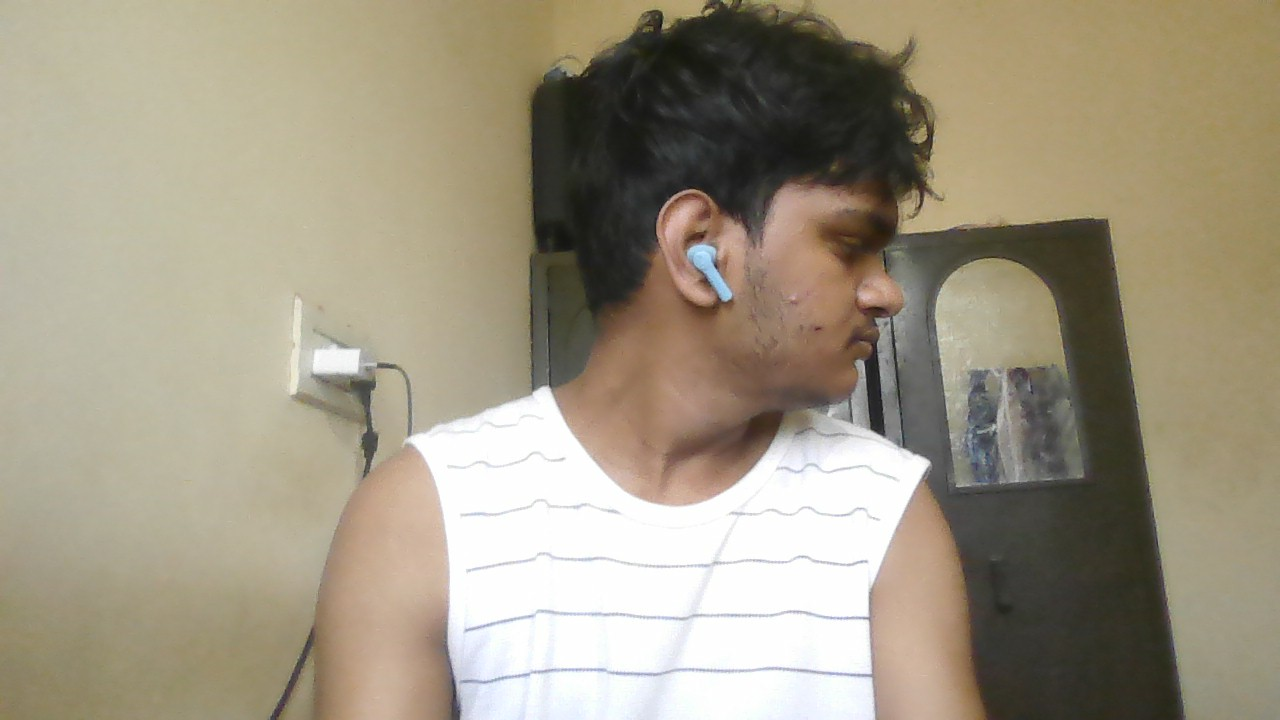earphone: (686, 237, 730, 300)
